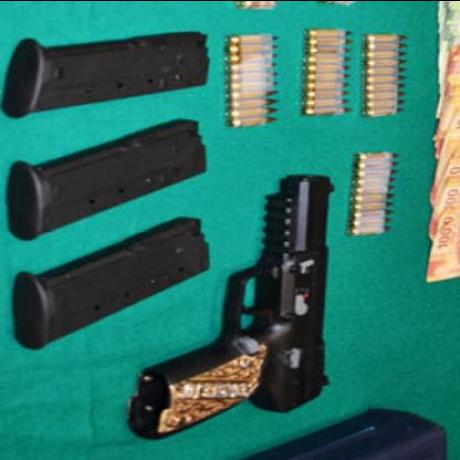weapon: (128, 164, 338, 442)
